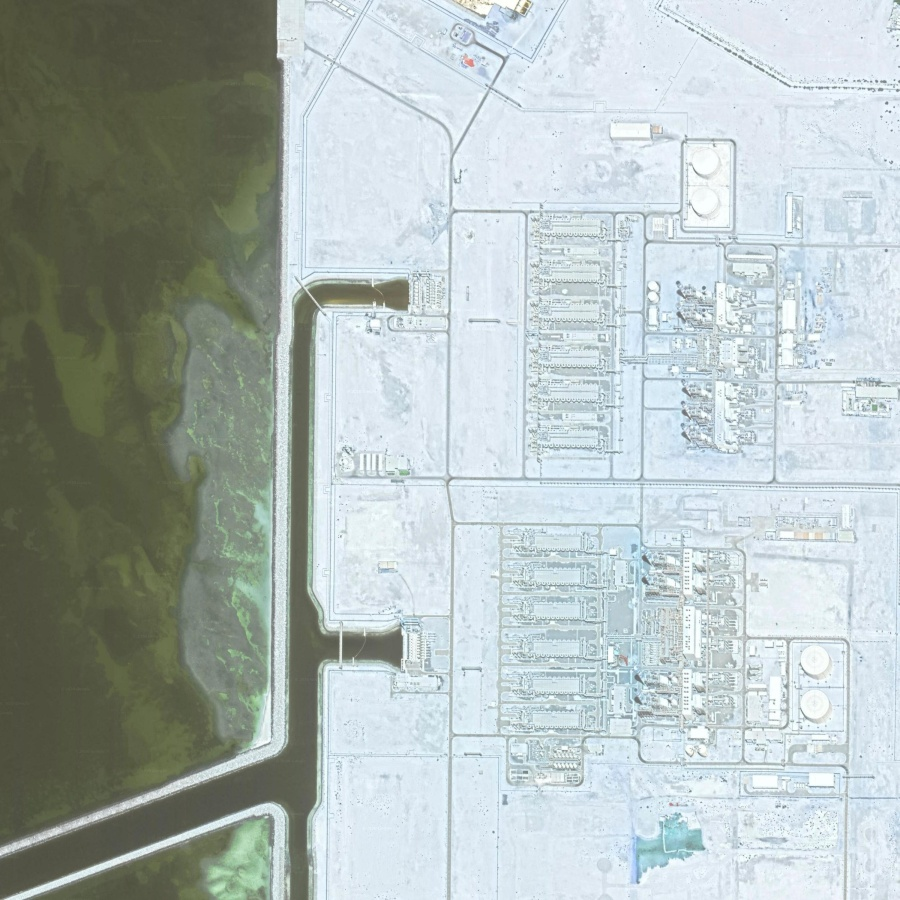PowerPlant: (524, 115, 855, 459), (484, 519, 846, 799)
